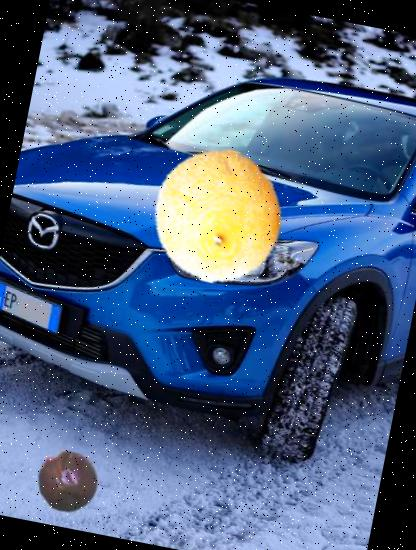Cantaloupe: (140, 137, 297, 294)
Passion: (30, 442, 105, 518)
